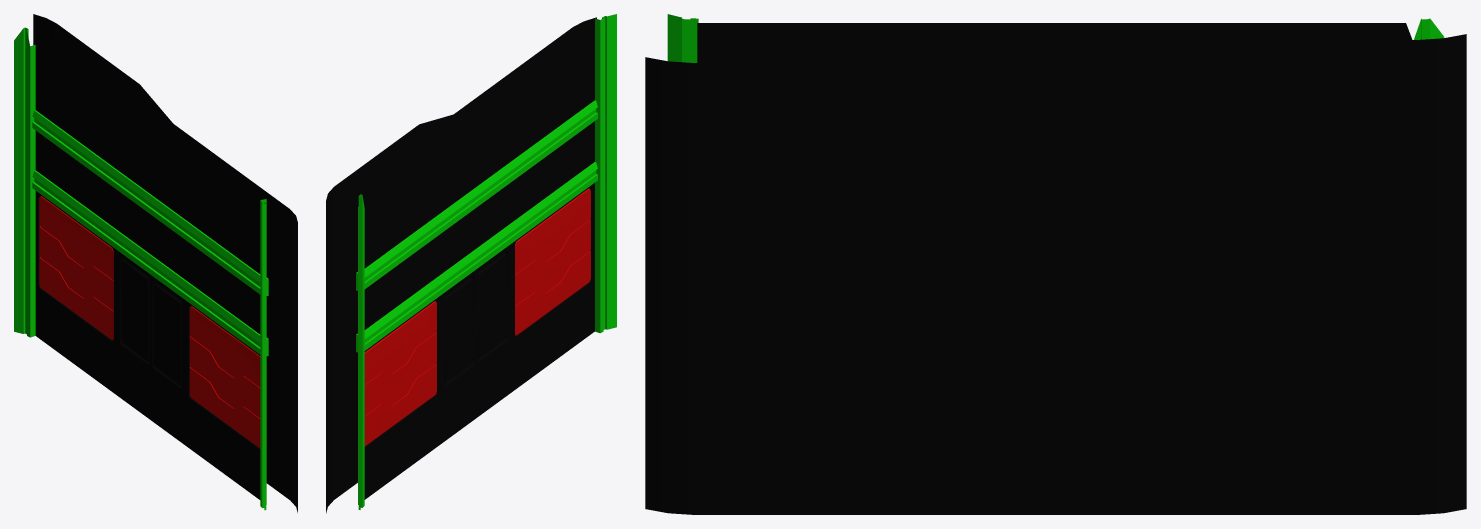
File: SM_Hub_Wall_1.fbx
3 views of the same model, side by side, from view 1: azimuth 30°, elevation 25°; view 2: azimuth 150°, elevation 25°; view 3: azimuth 270°, elevation 25° (orthographic). The views are drawn at different scales.
Parts seen in each view (by area): view 1: SM_Hub_Wall_1; view 2: SM_Hub_Wall_1; view 3: SM_Hub_Wall_1.
Boxes of the visible parts, x1,y1,x2,y2 form: SM_Hub_Wall_1: (14,14,297,512); SM_Hub_Wall_1: (326,14,616,513); SM_Hub_Wall_1: (645,14,1466,514).
Bounding box in the file's own units: 76.69 × 654 × 1024.
